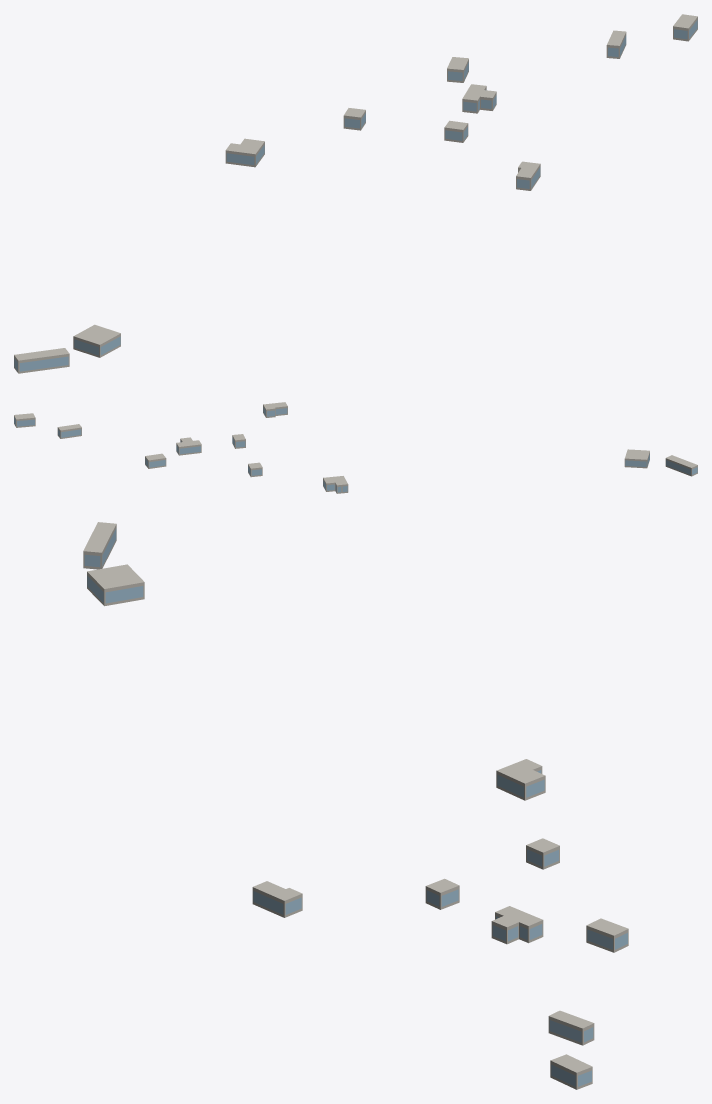
The model's file is moscow-kremlin-pavilions.glb.
3 views of the same model, one above another, from view 1: azimuth 30°, elevation 25°; view 2: azimuth 150°, elevation 25°; view 3: azimuth 270°, elevation 25° (orthographic). The views are drawn at different scales.
Visible parts, largest first — view 1: Kremlin pavilions; view 2: Kremlin pavilions; view 3: Kremlin pavilions.
Boxes of the visible parts, left/top/right/bottom form: Kremlin pavilions: left=14, top=14, right=697, bottom=373; Kremlin pavilions: left=14, top=402, right=697, bottom=493; Kremlin pavilions: left=83, top=522, right=628, bottom=1089.
Bounding box in the file's own units: 276 × 4 × 116.
